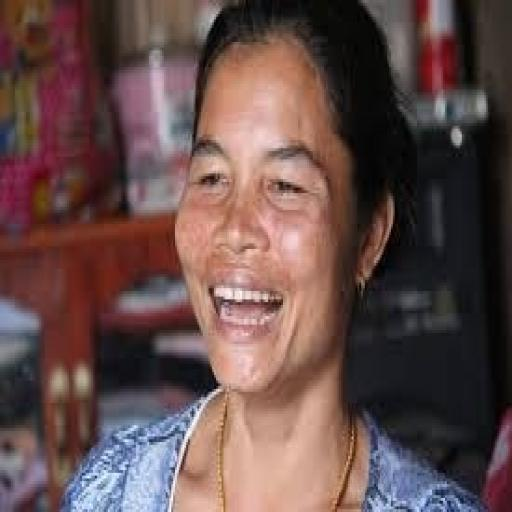laughing: (54, 0, 493, 509)
